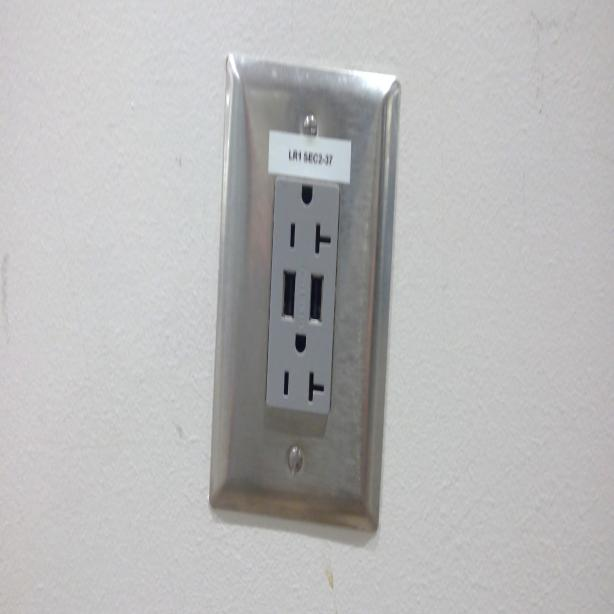typeb: (278, 177, 335, 260), (276, 323, 329, 412)
